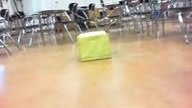cube: (76, 31, 110, 62)
